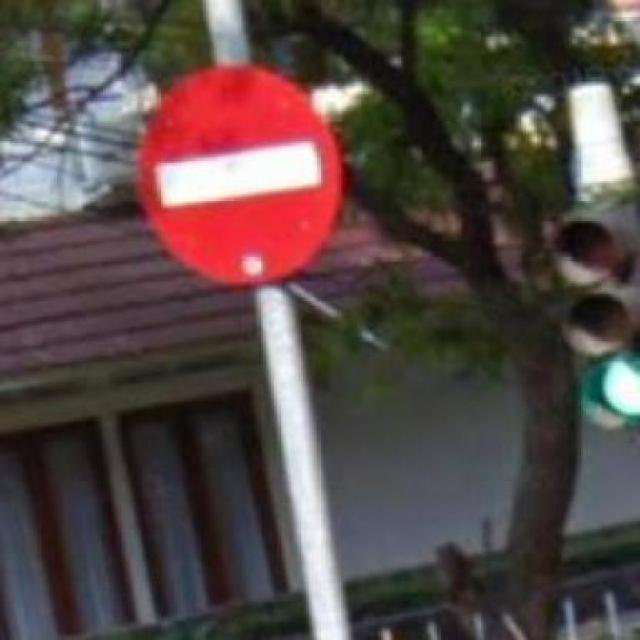no entry: (139, 60, 347, 289)
